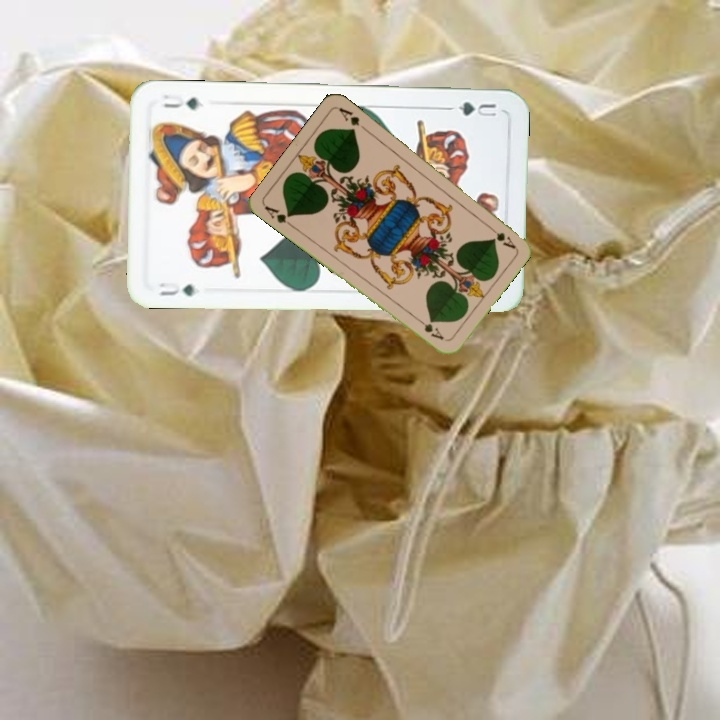GA: (260, 202, 297, 231), (483, 221, 518, 251)
GU: (453, 98, 499, 119), (155, 278, 197, 299)
